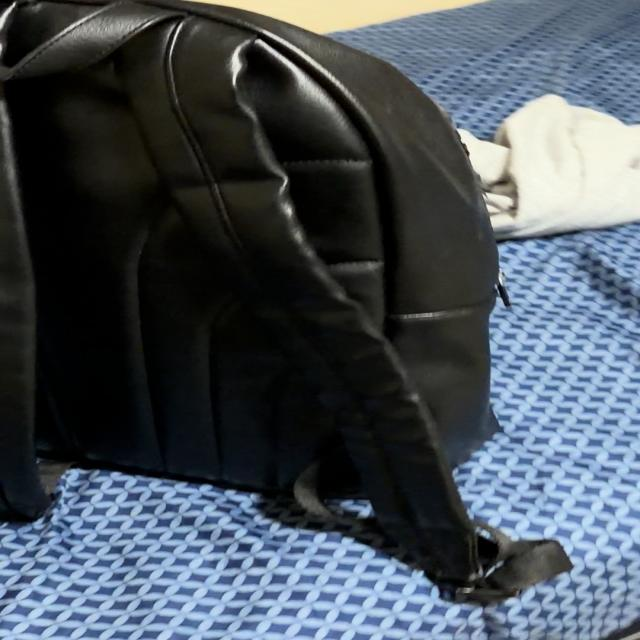backpack: (0, 0, 569, 602)
